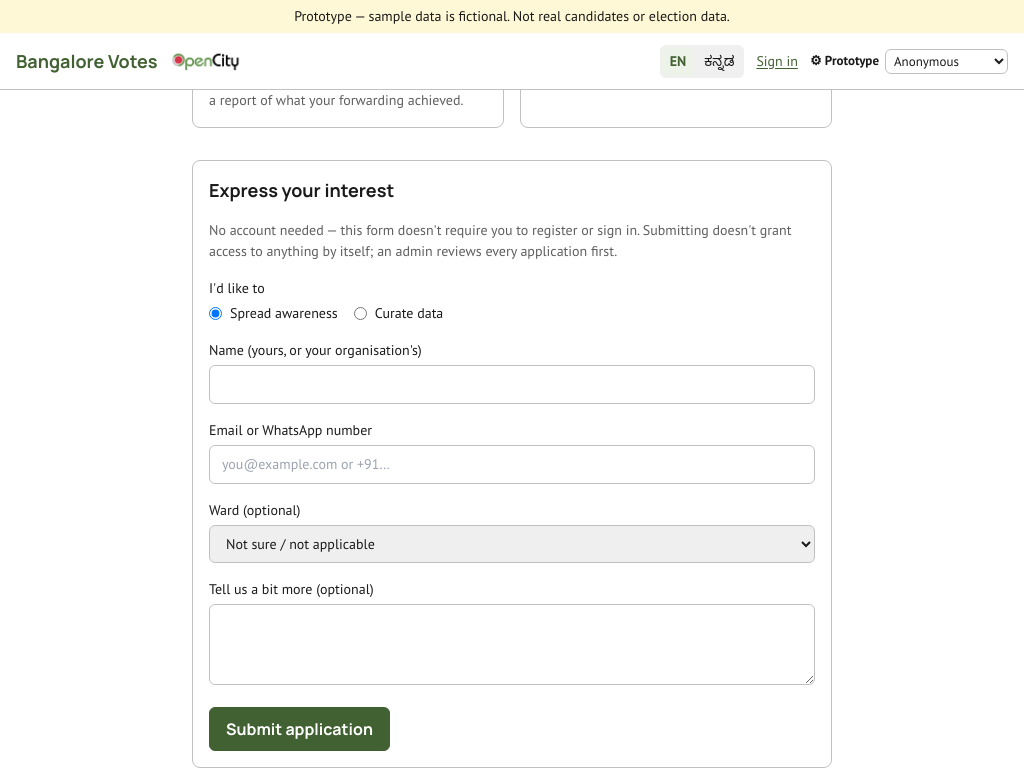
Test: submitting the anonymous form succeeds without ever logging in, and lands pending (nobody self-activates)
The image size is (1024, 768).
(page scrolled)
Type "Test Resident" into the field labelled "Name (yours, or your organisation's)" at (512,385), box 209,365 -> 815,404
(page scrolled)
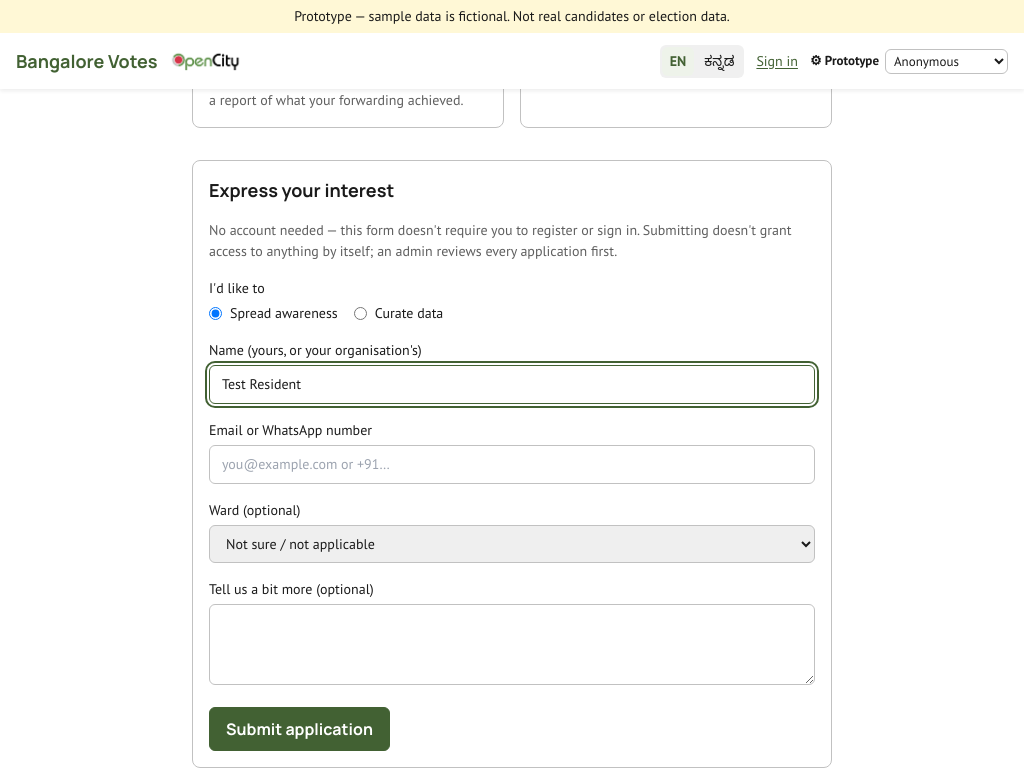
Type "volunteer@example.com" into the field labelled "Email or WhatsApp number" at (512,465), box 209,445 -> 815,484
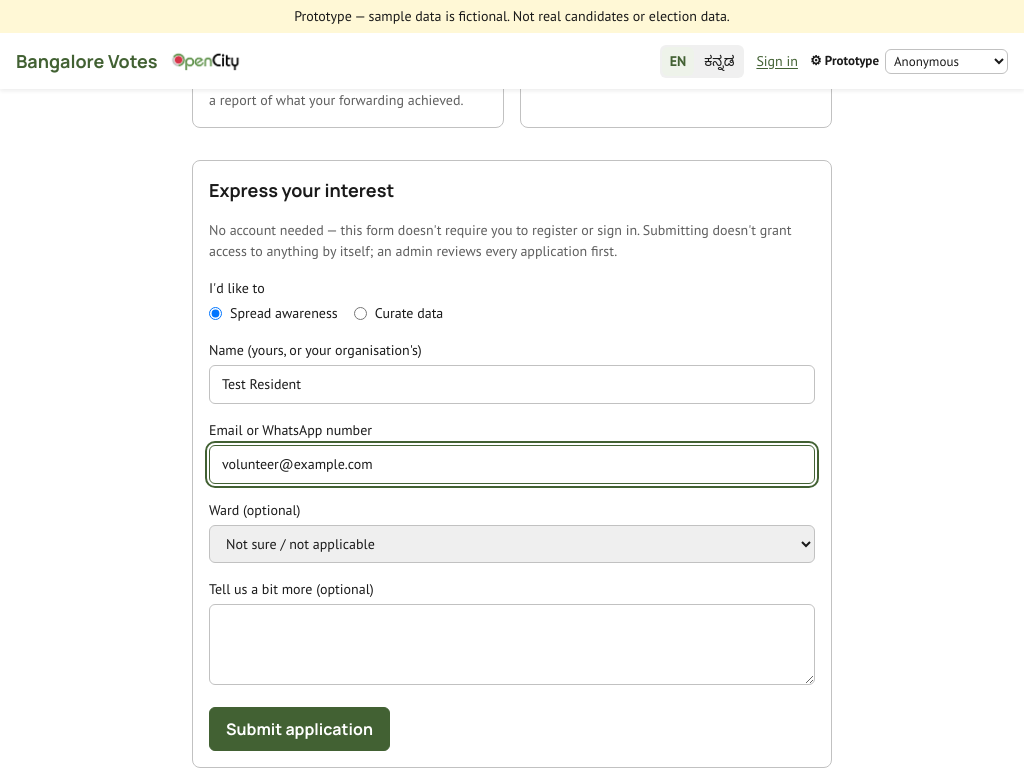
Click the button "Submit application" at (299,729), box 209,707 -> 390,751
(page scrolled)
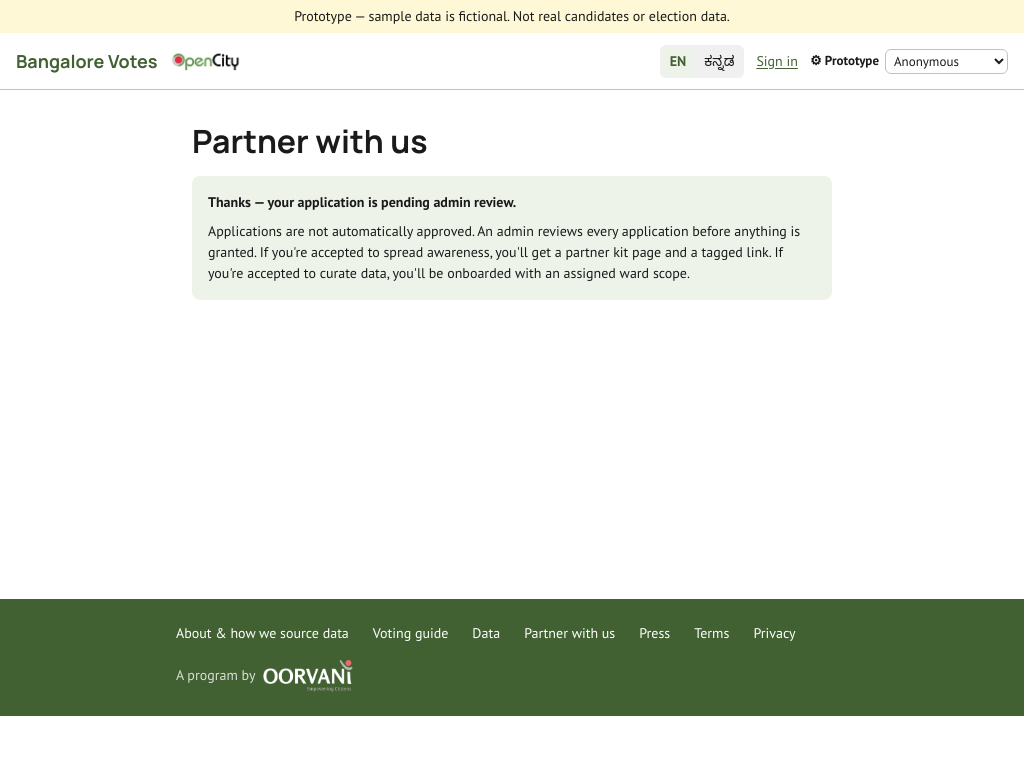
Now the text "Thanks — your application is pending admin review." is shown, box 208,193 -> 516,211
